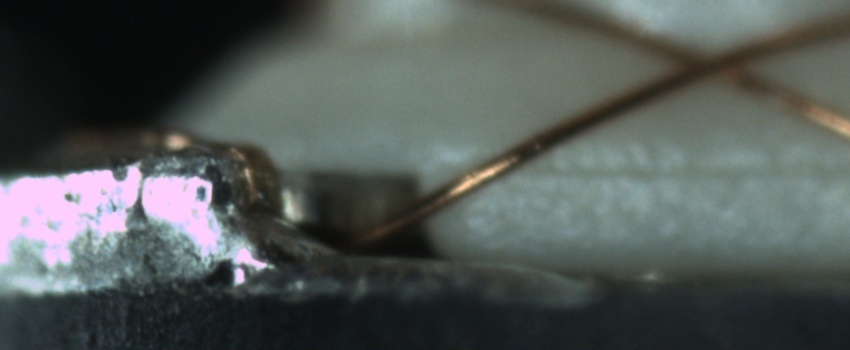CL: (647, 31, 776, 90)
DL: (470, 137, 850, 201)
TE: (62, 122, 283, 206)
